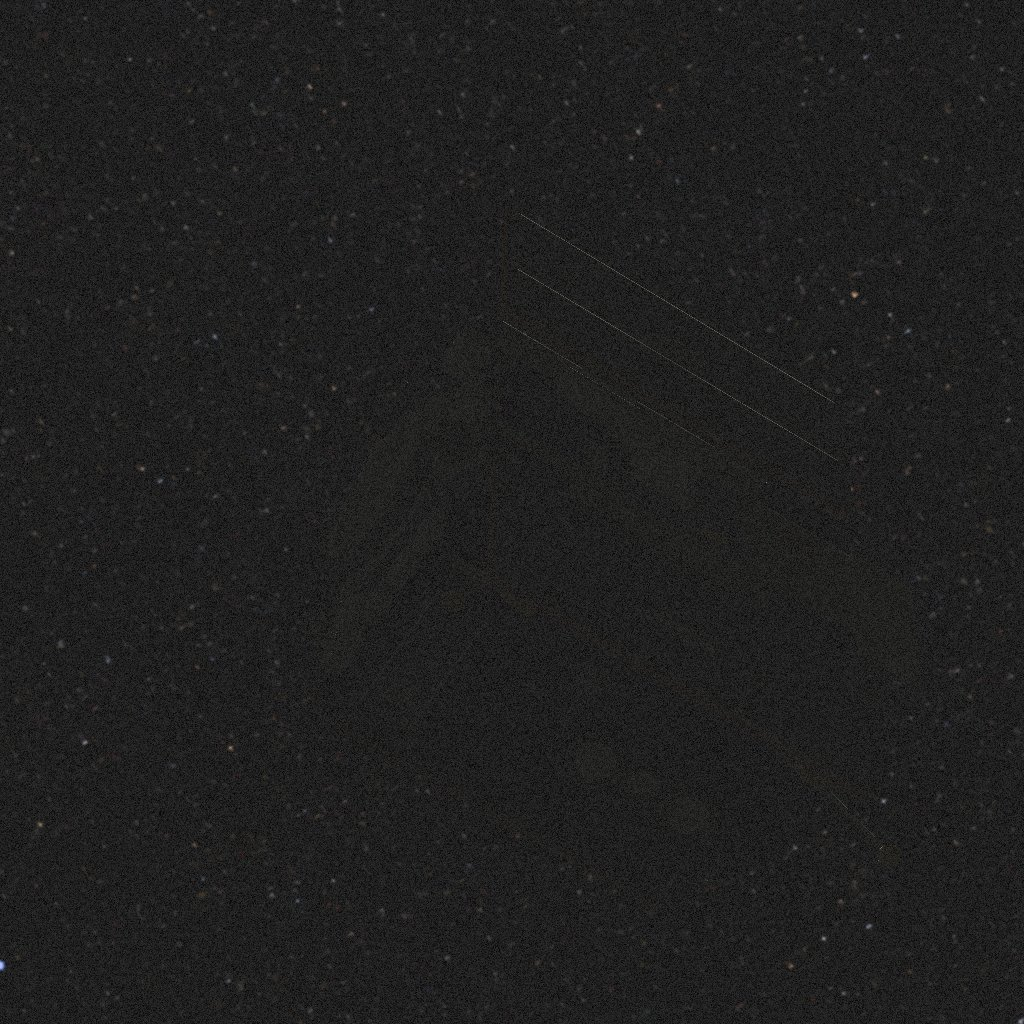proba_2: (299, 206, 921, 924)
